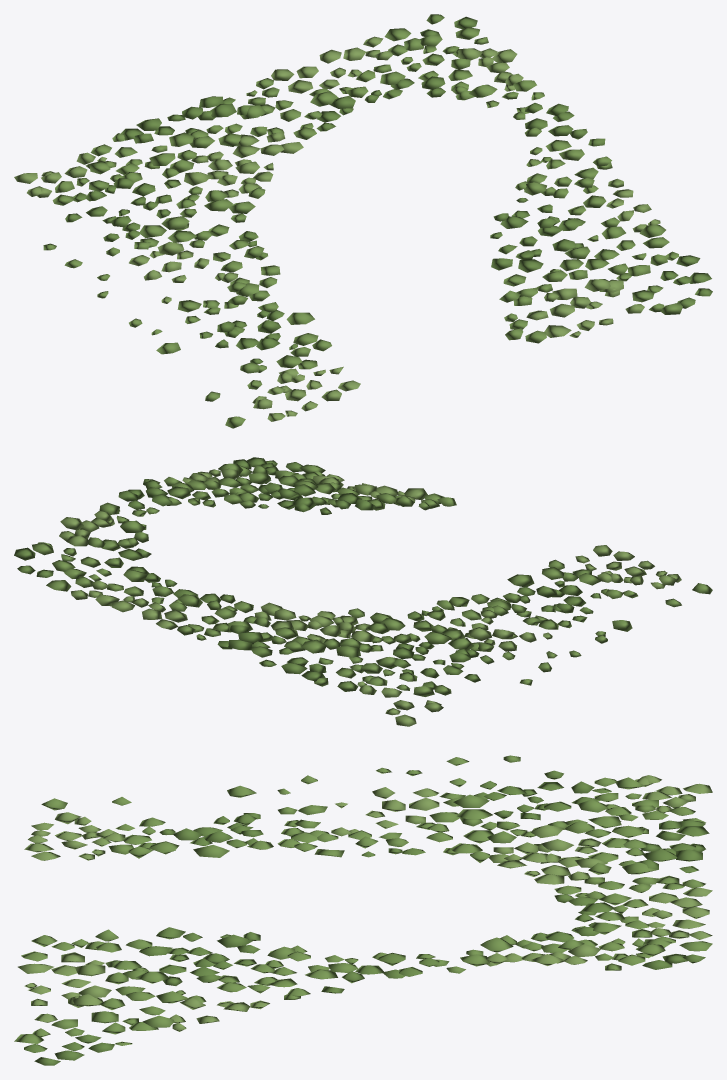
The model's file is canopy-1-0-0.glb.
3 renders of one model, top to bottom at view 1: azimuth 30°, elevation 25°; view 2: azimuth 150°, elevation 25°; view 3: azimuth 270°, elevation 25°, orthographic. The views are drawn at different scales.
Size of the model in its own units: 520 by 112 by 518.
Materials: 1 (1 with a texture image).
